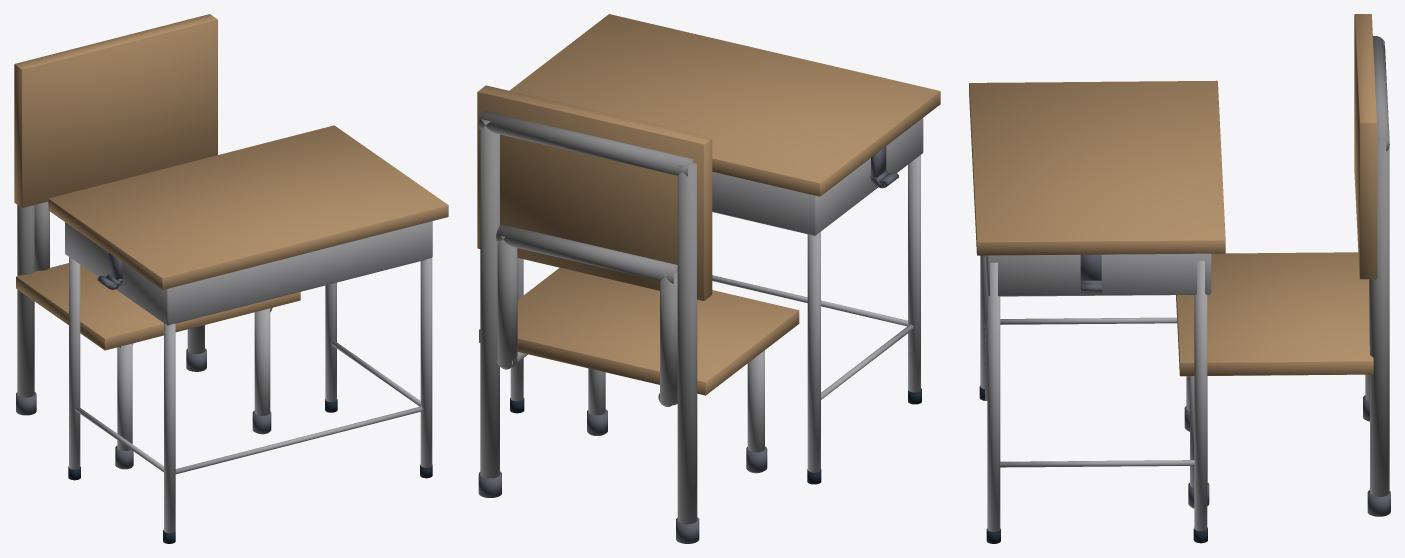
The model's file is Prop_SchoolDeskChair.glb.
3 renders of one model, left to right at view 1: azimuth 30°, elevation 25°; view 2: azimuth 150°, elevation 25°; view 3: azimuth 270°, elevation 25°, orthographic. The views are drawn at different scales.
Visible parts, largest first — view 1: Prop_SchoolDeskChair; view 2: Prop_SchoolDeskChair; view 3: Prop_SchoolDeskChair.
Part boxes in pixels (box(x1,y1,x2,y2)): Prop_SchoolDeskChair: box(14, 14, 448, 543); Prop_SchoolDeskChair: box(477, 14, 940, 543); Prop_SchoolDeskChair: box(969, 14, 1390, 543).
Bounding box in the file's own units: 0.9514 × 1.05 × 1.01.
